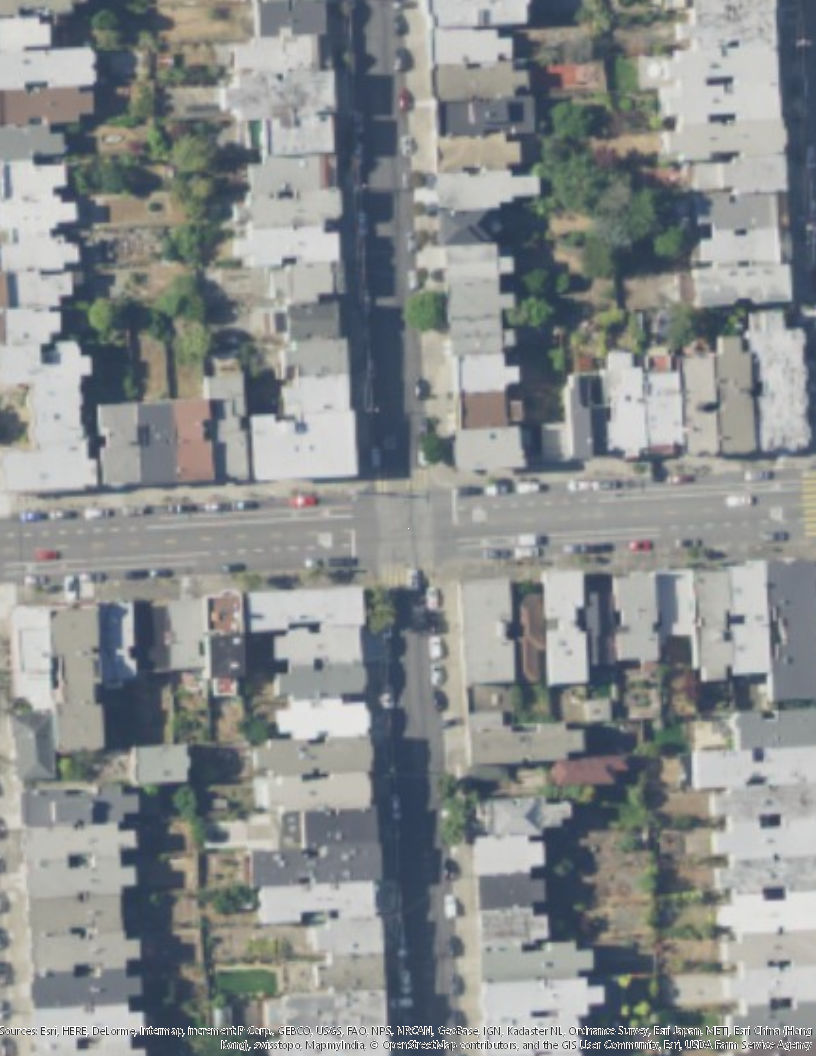zebracross: (377, 469, 430, 493), (801, 470, 816, 538), (383, 563, 410, 585)
